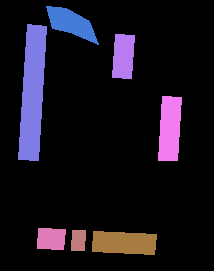parkingspot: (18, 24, 46, 160), (46, 6, 98, 44), (158, 96, 181, 160), (92, 231, 156, 254), (112, 34, 134, 78), (37, 228, 65, 249), (71, 230, 85, 250)
